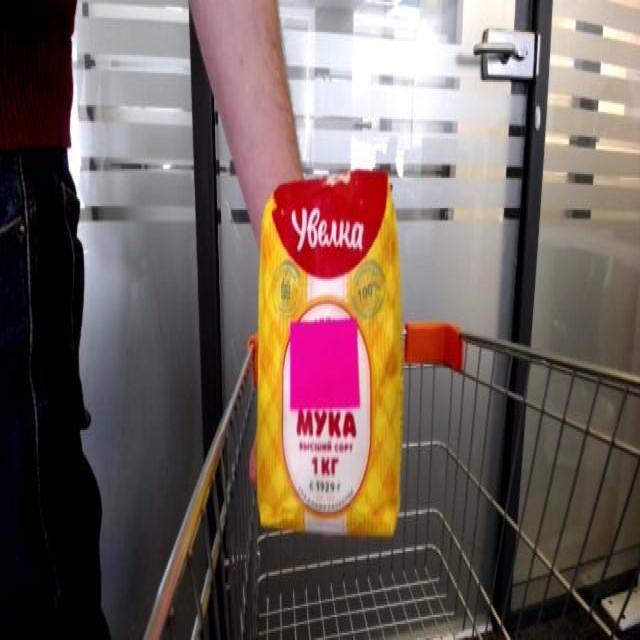Almond Milk: (254, 158, 410, 553)
